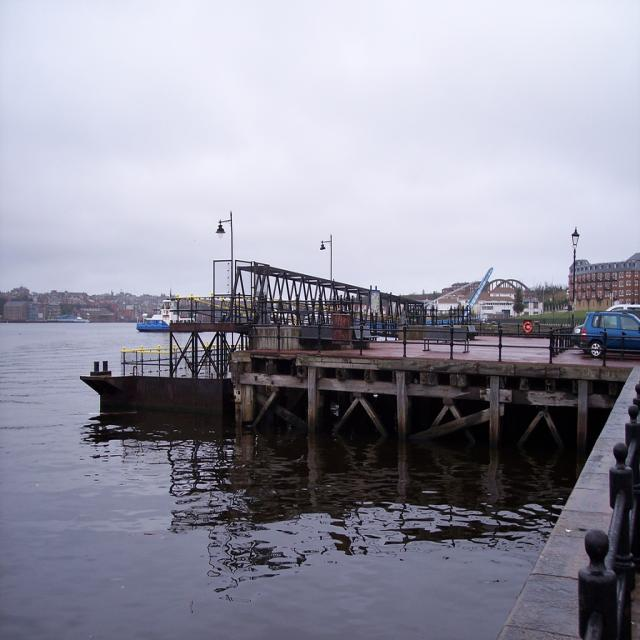Boat: (134, 298, 200, 336)
